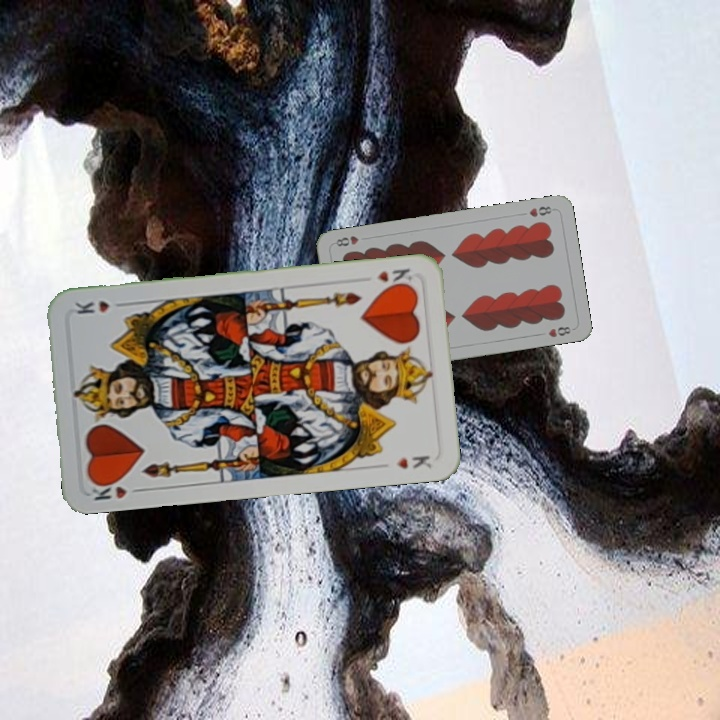H8: (525, 202, 557, 220)
HK: (87, 475, 146, 503), (373, 264, 414, 291)
